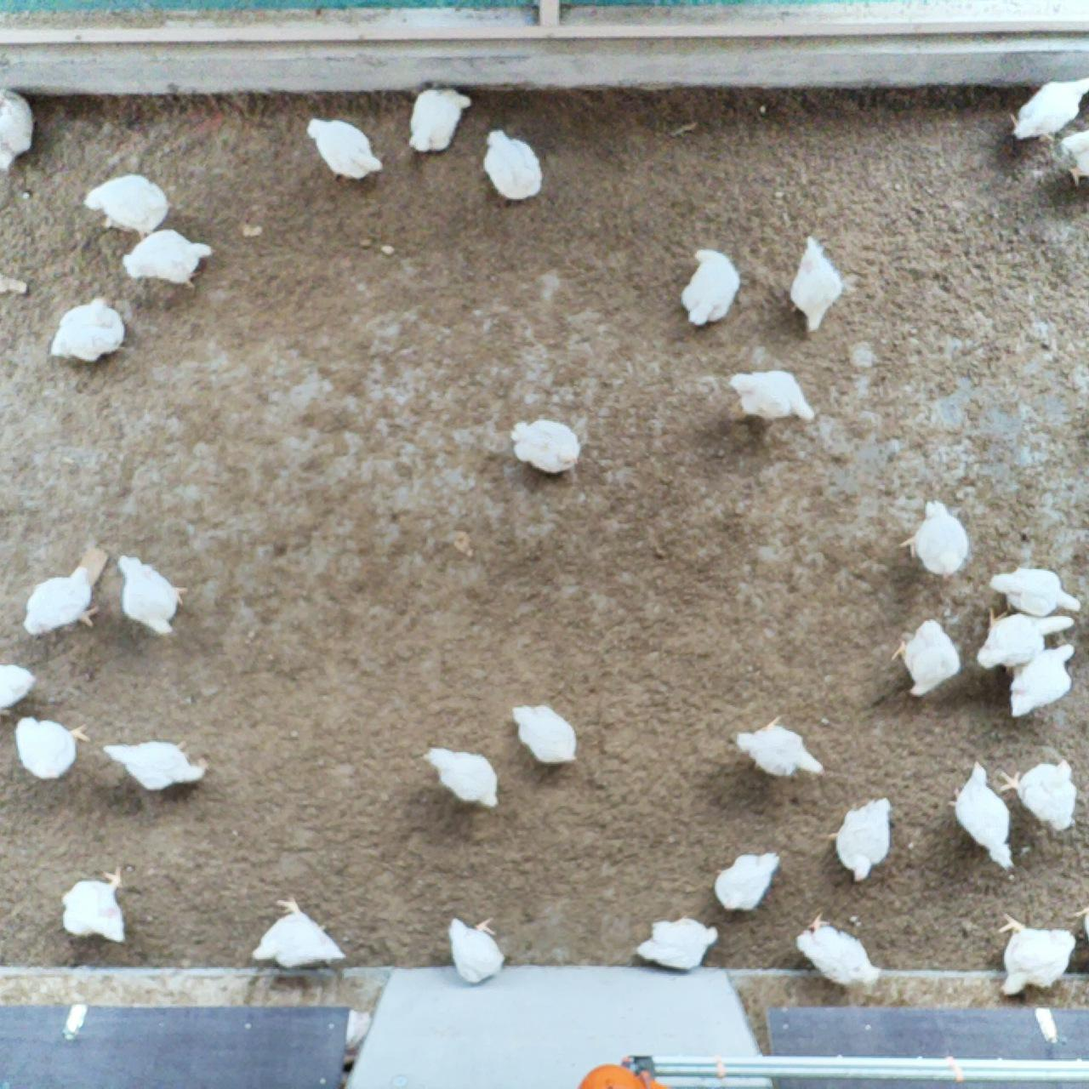chicken: (241, 893, 352, 972), (944, 757, 1018, 874), (791, 909, 887, 993), (993, 908, 1078, 1001), (98, 736, 215, 799), (975, 600, 1078, 671), (110, 550, 189, 642), (886, 612, 965, 703), (76, 170, 174, 242), (731, 713, 828, 785), (821, 793, 896, 886), (996, 756, 1084, 835), (118, 225, 220, 293), (1005, 633, 1081, 723), (722, 363, 821, 432), (897, 496, 972, 586), (22, 561, 104, 641), (57, 862, 131, 950), (45, 291, 128, 369), (784, 230, 844, 337), (13, 708, 95, 786), (1005, 72, 1089, 147), (673, 246, 745, 331), (305, 112, 387, 185), (422, 744, 505, 816), (986, 560, 1087, 619), (477, 123, 547, 206), (405, 83, 475, 162), (631, 914, 720, 975), (508, 700, 582, 772), (438, 908, 505, 987), (709, 847, 784, 917), (502, 415, 583, 476), (0, 83, 39, 176), (1055, 124, 1089, 191), (0, 661, 39, 717)
